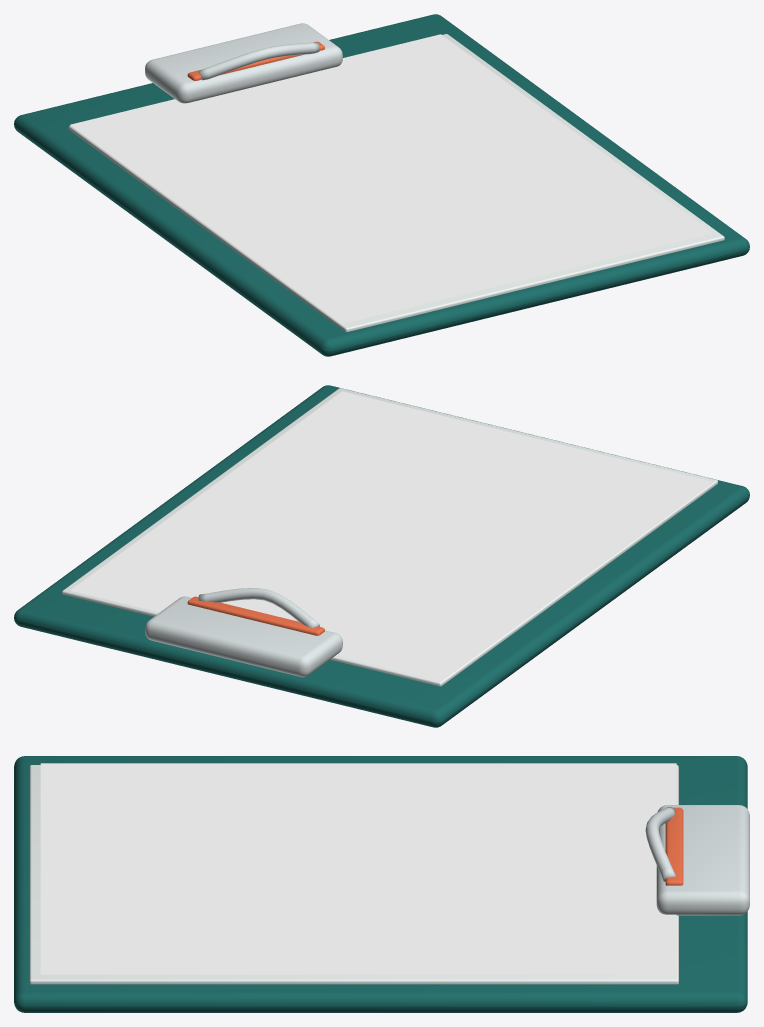
The model's file is chart.glb.
3 renders of one model, top to bottom at view 1: azimuth 30°, elevation 25°; view 2: azimuth 150°, elevation 25°; view 3: azimuth 270°, elevation 25°, orthographic. The views are drawn at different scales.
Visible parts, largest first — view 1: Paper, Board, Clip, Sheets, ClipLever; view 2: Paper, Board, Clip, Sheets, ClipLever, ClipPad; view 3: Paper, Board, Sheets, Clip, ClipPad, ClipLever.
Boxes of the visible parts, bbox=[...] form: Paper: bbox=[70, 34, 712, 323]; Board: bbox=[14, 14, 749, 356]; Clip: bbox=[145, 23, 342, 103]; Sheets: bbox=[68, 34, 724, 332]; ClipLever: bbox=[198, 42, 319, 80]; Paper: bbox=[70, 391, 712, 680]; Board: bbox=[14, 385, 749, 727]; Clip: bbox=[145, 596, 342, 677]; Sheets: bbox=[62, 388, 717, 686]; ClipLever: bbox=[198, 588, 319, 628]; ClipPad: bbox=[187, 596, 324, 635]; Paper: bbox=[40, 763, 676, 974]; Board: bbox=[14, 756, 747, 1012]; Sheets: bbox=[29, 765, 678, 984]; Clip: bbox=[656, 805, 749, 915]; ClipPad: bbox=[665, 807, 683, 885]; ClipLever: bbox=[645, 807, 675, 881].
Size of the model in its own units: 2.6 by 0.35 by 3.31.
